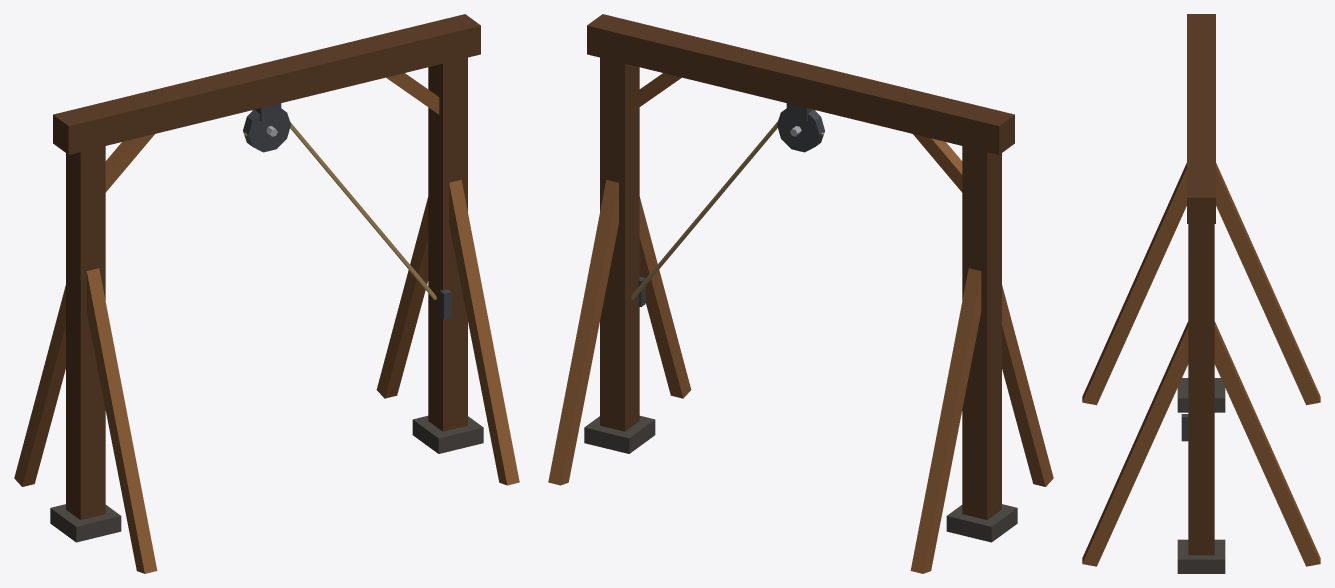
File: mine_pulley_frame.glb
3 renders of one model, left to right at view 1: azimuth 30°, elevation 25°; view 2: azimuth 150°, elevation 25°; view 3: azimuth 270°, elevation 25°, orthographic. The views are drawn at different scales.
Visible parts, largest first — view 1: mine_pulley_frame; view 2: mine_pulley_frame; view 3: mine_pulley_frame.
Part boxes in pixels (x1,y1,x2,y2): mine_pulley_frame: (14,14,519,573); mine_pulley_frame: (548,14,1053,573); mine_pulley_frame: (1082,14,1320,573).
Bounding box in the file's own units: 3.3 × 3.16 × 1.81.
